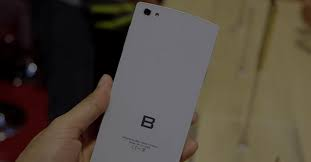bphone: (86, 1, 219, 162)
